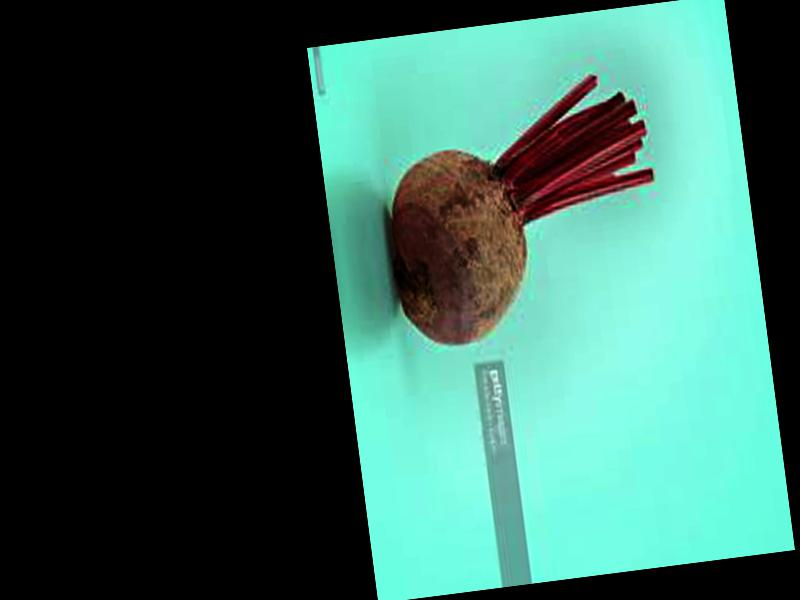Beet: (372, 70, 672, 352)
